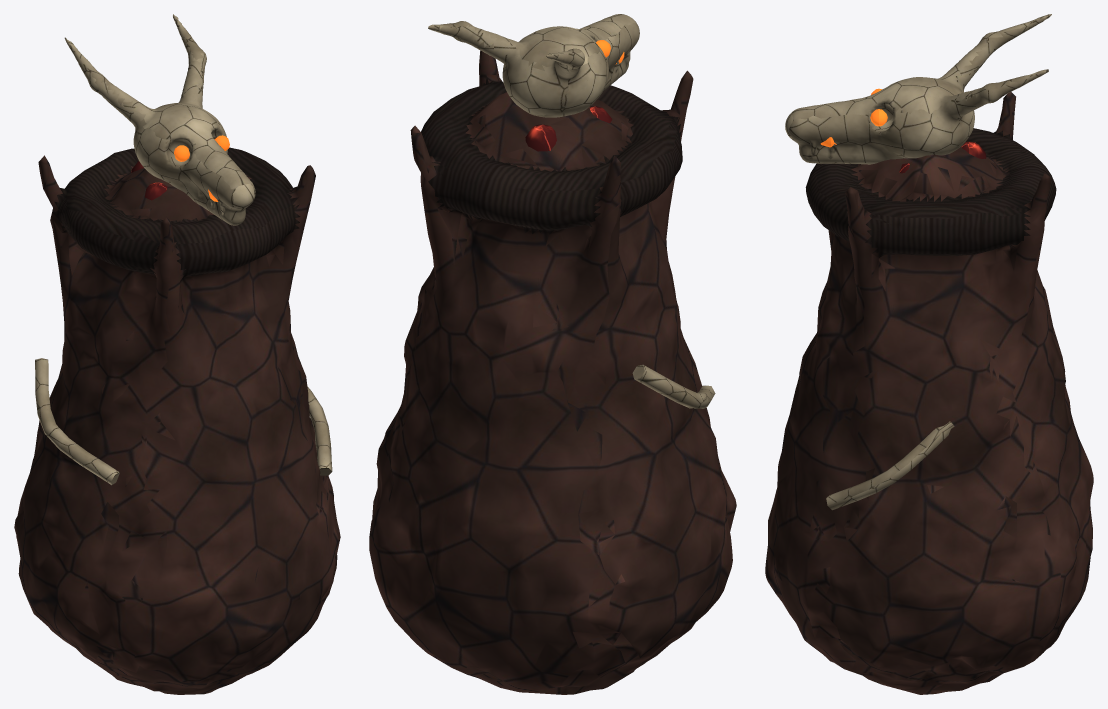
Rendered from dragon.glb.
The picture shows the model from 3 angles, left to right: view 1: azimuth 30°, elevation 25°; view 2: azimuth 150°, elevation 25°; view 3: azimuth 270°, elevation 25°; orthographic projection. The views are drawn at different scales.
Visible parts, largest first — view 1: Base, Turret; view 2: Base, Turret; view 3: Base, Turret.
Part boxes in pixels (bbox=[...]): Base: bbox=[14, 147, 340, 694]; Turret: bbox=[64, 14, 255, 225]; Base: bbox=[369, 50, 736, 694]; Turret: bbox=[428, 14, 639, 117]; Base: bbox=[765, 92, 1093, 694]; Turret: bbox=[785, 14, 1051, 164].
Size of the model in its own units: 0.8527 by 1.76 by 0.821.
Materials: 5 (5 with a texture image).
